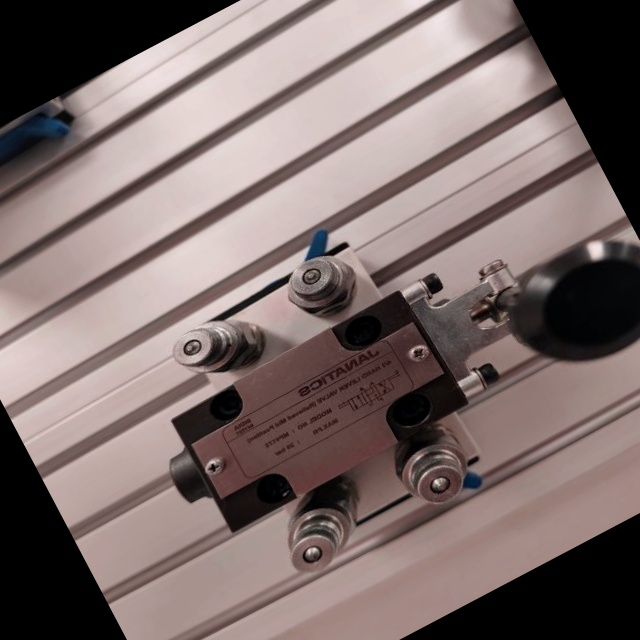4by3 hand lever valve: (90, 92, 640, 632)
